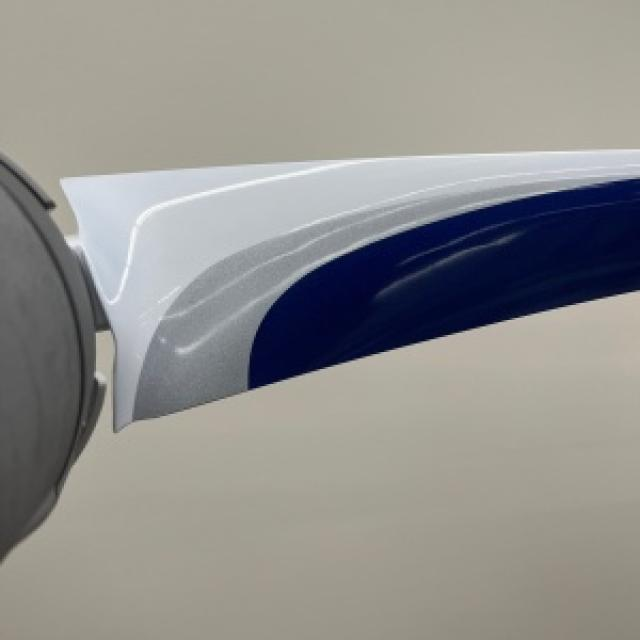healthy: (0, 294, 638, 638)
